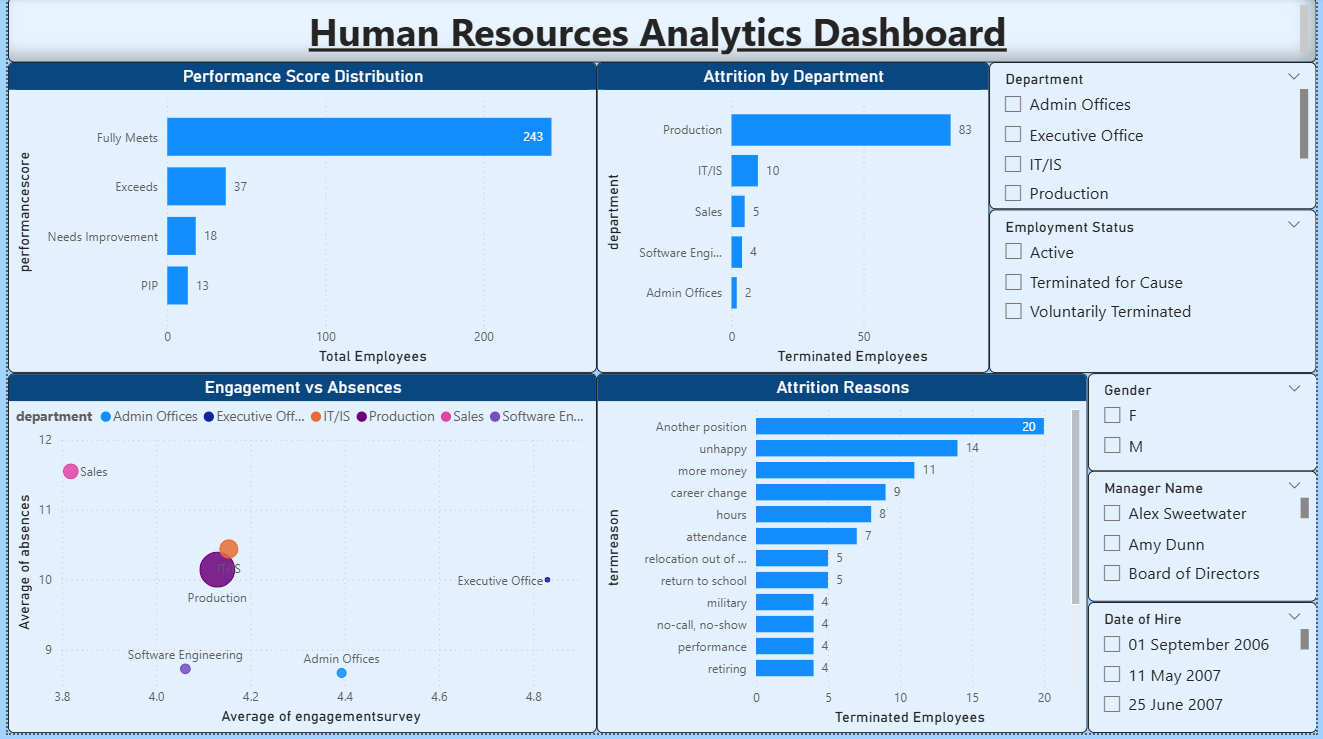

Layout of this report page (visuals, bound fields, positions):
{"tool":"powerbi","page":{"name":"PERFORMANCE & ATTRITION","canvas":[1280,720],"ordinal":2},"visuals":[{"type":"textbox","box":[0,0,1280,64],"z":0},{"type":"clusteredBarChart","title":"Performance Score Distribution","fields":{"Category":["HRDataset_v14_cleaned.performancescore"],"Y":["HRDataset_v14_cleaned.Total Employees"]},"box":[0,64,576,304],"z":1},{"type":"scatterChart","title":"Engagement vs Absences","fields":{"X":["Avg(HRDataset_v14_cleaned.engagementsurvey)"],"Y":["Avg(HRDataset_v14_cleaned.absences)"],"Size":["HRDataset_v14_cleaned.Total Employees"],"Series":["HRDataset_v14_cleaned.department"]},"box":[0,368,576,352],"z":2},{"type":"clusteredBarChart","title":"Attrition by Department","fields":{"Category":["HRDataset_v14_cleaned.department"],"Y":["HRDataset_v14_cleaned.Terminated Employees"]},"box":[576,64,384,304],"z":3},{"type":"clusteredBarChart","title":"Attrition Reasons","fields":{"Category":["HRDataset_v14_cleaned.termreason"],"Y":["HRDataset_v14_cleaned.Terminated Employees"]},"box":[576,368,480,352],"z":4},{"type":"slicer","fields":{"Values":["HRDataset_v14_cleaned.department"]},"box":[960,64,320,144],"z":5},{"type":"slicer","fields":{"Values":["HRDataset_v14_cleaned.sex"]},"box":[1056,368,224,96],"z":6},{"type":"slicer","fields":{"Values":["HRDataset_v14_cleaned.employmentstatus"]},"box":[960,208,320,160],"z":7},{"type":"slicer","fields":{"Values":["HRDataset_v14_cleaned.managername"]},"box":[1056,464,224,128],"z":8},{"type":"slicer","fields":{"Values":["HRDataset_v14_cleaned.dateofhire"]},"box":[1056,592,224,128],"z":9}]}

Visuals, with their boxes in screenshot pixels (x1, y1, x2, y2), scaled from the page's 1280x720 canvas onto the 1323x739 screenshot:
textbox: detection(0, 0, 1322, 66)
"Performance Score Distribution" clusteredBarChart: detection(0, 66, 595, 378)
"Engagement vs Absences" scatterChart: detection(0, 378, 595, 738)
"Attrition by Department" clusteredBarChart: detection(595, 66, 992, 378)
"Attrition Reasons" clusteredBarChart: detection(595, 378, 1091, 738)
slicer - HRDataset_v14_cleaned.department: detection(992, 66, 1322, 213)
slicer - HRDataset_v14_cleaned.sex: detection(1091, 378, 1322, 476)
slicer - HRDataset_v14_cleaned.employmentstatus: detection(992, 213, 1322, 378)
slicer - HRDataset_v14_cleaned.managername: detection(1091, 476, 1322, 608)
slicer - HRDataset_v14_cleaned.dateofhire: detection(1091, 608, 1322, 738)
